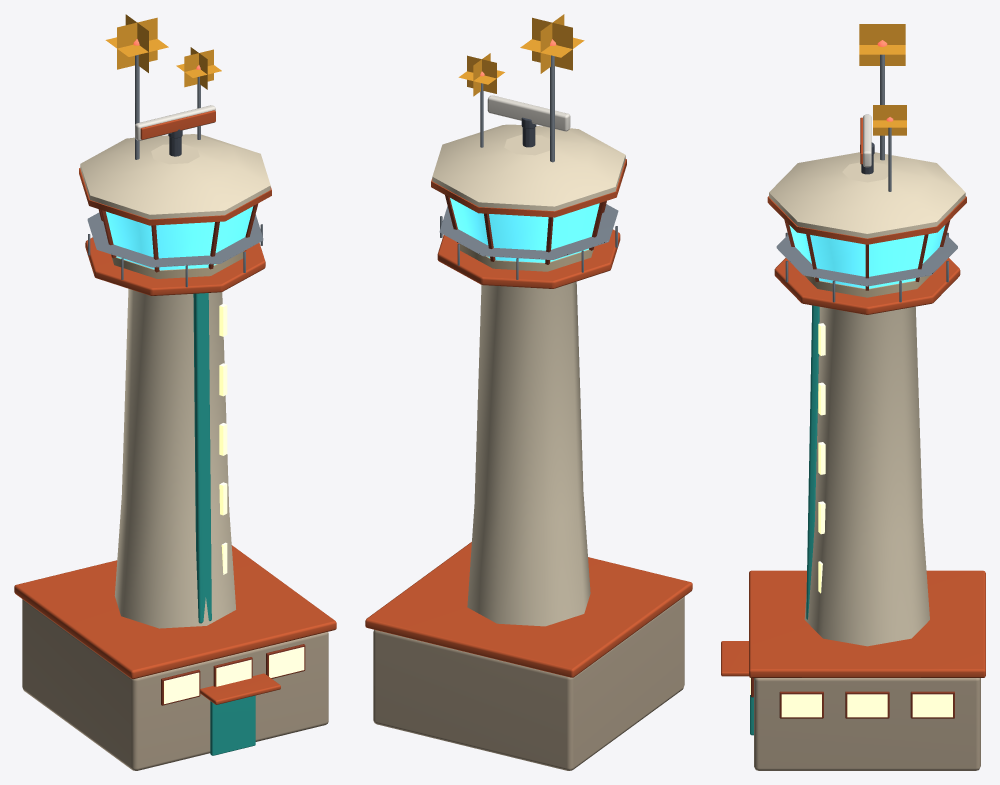
File: dune_tower.glb
The picture shows the model from 3 angles, left to right: view 1: azimuth 30°, elevation 25°; view 2: azimuth 150°, elevation 25°; view 3: azimuth 270°, elevation 25°; orthographic projection.
Parts seen in each view (by area): view 1: Tower, Radar; view 2: Tower, Radar; view 3: Tower, Radar.
Part boxes in pixels (x1=…): Tower: x1=14, y1=14, x2=336, y2=770; Radar: x1=135, y1=105, x2=215, y2=140; Tower: x1=365, y1=14, x2=692, y2=770; Radar: x1=487, y1=95, x2=570, y2=131; Tower: x1=721, y1=24, x2=985, y2=770; Radar: x1=860, y1=114, x2=874, y2=167.
Bounding box in the file's own units: 9.4 × 30.02 × 10.5.
